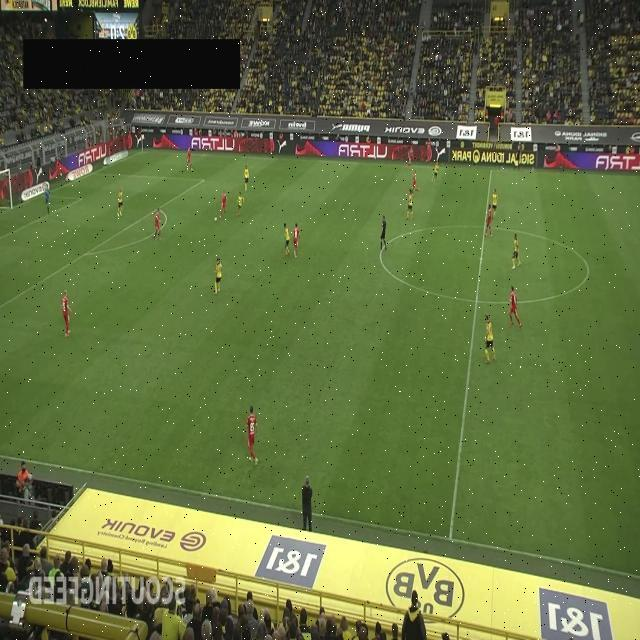Ball: (214, 216, 218, 223)
Corner: (140, 133, 144, 151)
GoalKeeper: (44, 184, 51, 216)
Referee: (379, 214, 386, 252), (512, 144, 520, 172)
TEAM 1: (246, 404, 258, 467), (508, 285, 522, 329), (60, 289, 72, 338), (153, 208, 162, 240), (292, 222, 300, 258), (485, 205, 493, 238), (220, 189, 228, 218), (412, 170, 421, 193), (406, 146, 414, 170), (186, 146, 193, 172)
TEAM 2: (484, 314, 496, 364), (511, 234, 521, 268), (215, 257, 222, 294), (406, 189, 414, 221), (284, 222, 290, 257), (236, 192, 244, 216), (117, 186, 123, 217), (492, 188, 498, 218), (431, 161, 439, 183), (243, 164, 249, 192)
